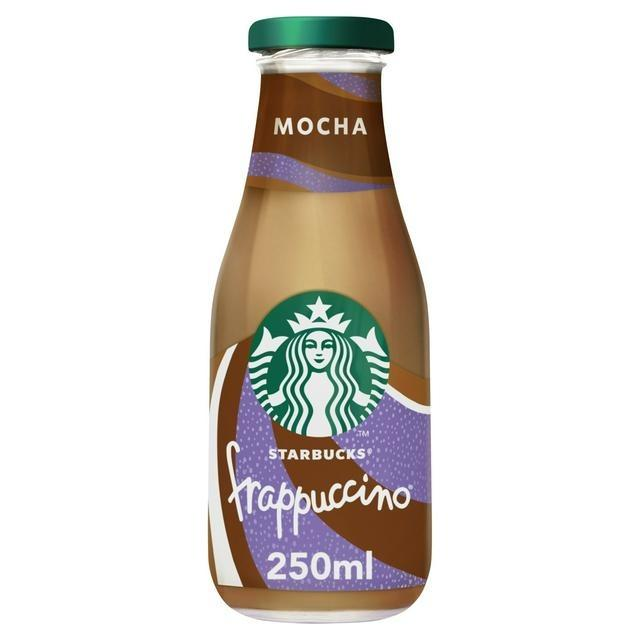starbucks: (243, 283, 393, 442)
